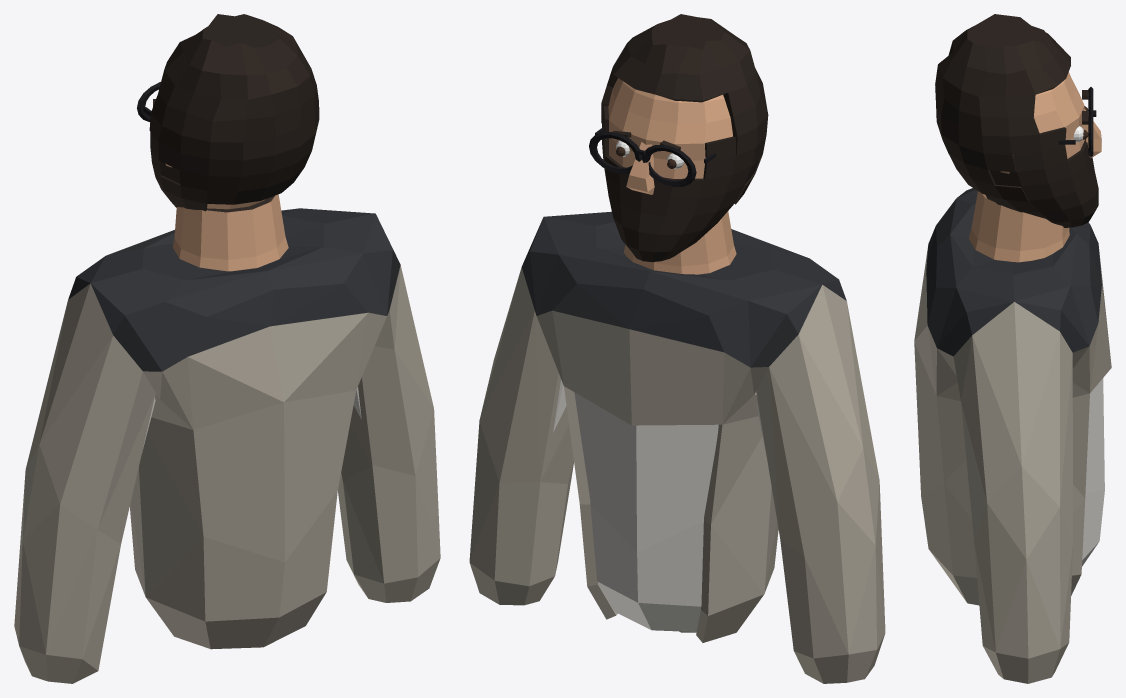
Rendered from paul.glb.
The picture shows the model from 3 angles, left to right: view 1: azimuth 30°, elevation 25°; view 2: azimuth 150°, elevation 25°; view 3: azimuth 270°, elevation 25°; orthographic projection. The views are drawn at different scales.
Visible parts, largest first — view 1: Jacket, Hair, Neck, Beard; view 2: Jacket, TShirt, Hair, Beard, Head, Neck, Lens_L, Nose, Lens_R; view 3: Jacket, Hair, Beard, Neck, TShirt, Head, Nose.
Boxes of the visible parts, bbox=[...] form: Jacket: bbox=[14, 208, 440, 683]; Hair: bbox=[149, 14, 319, 204]; Neck: bbox=[172, 194, 288, 271]; Beard: bbox=[150, 99, 274, 212]; Jacket: bbox=[469, 211, 885, 683]; TShirt: bbox=[553, 379, 766, 631]; Hair: bbox=[601, 14, 768, 204]; Beard: bbox=[602, 105, 758, 261]; Head: bbox=[608, 78, 732, 178]; Neck: bbox=[623, 211, 736, 274]; Lens_L: bbox=[642, 144, 696, 186]; Nose: bbox=[626, 142, 654, 194]; Lens_R: bbox=[589, 132, 642, 173]; Jacket: bbox=[914, 188, 1111, 683]; Hair: bbox=[935, 14, 1070, 201]; Beard: bbox=[986, 127, 1098, 227]; Neck: bbox=[968, 191, 1069, 262]; TShirt: bbox=[1082, 378, 1104, 566]; Head: bbox=[1033, 72, 1084, 158]; Nose: bbox=[1082, 108, 1101, 157].
Size of the model in its own units: 0.4892 by 0.7027 by 0.2179.
